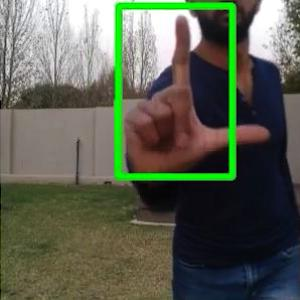land_hand: (123, 12, 272, 177)
